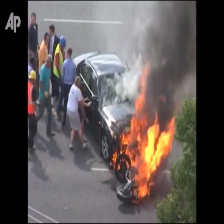fire_h: (120, 62, 175, 202)
fire_l: (117, 157, 130, 170), (112, 149, 117, 170)
